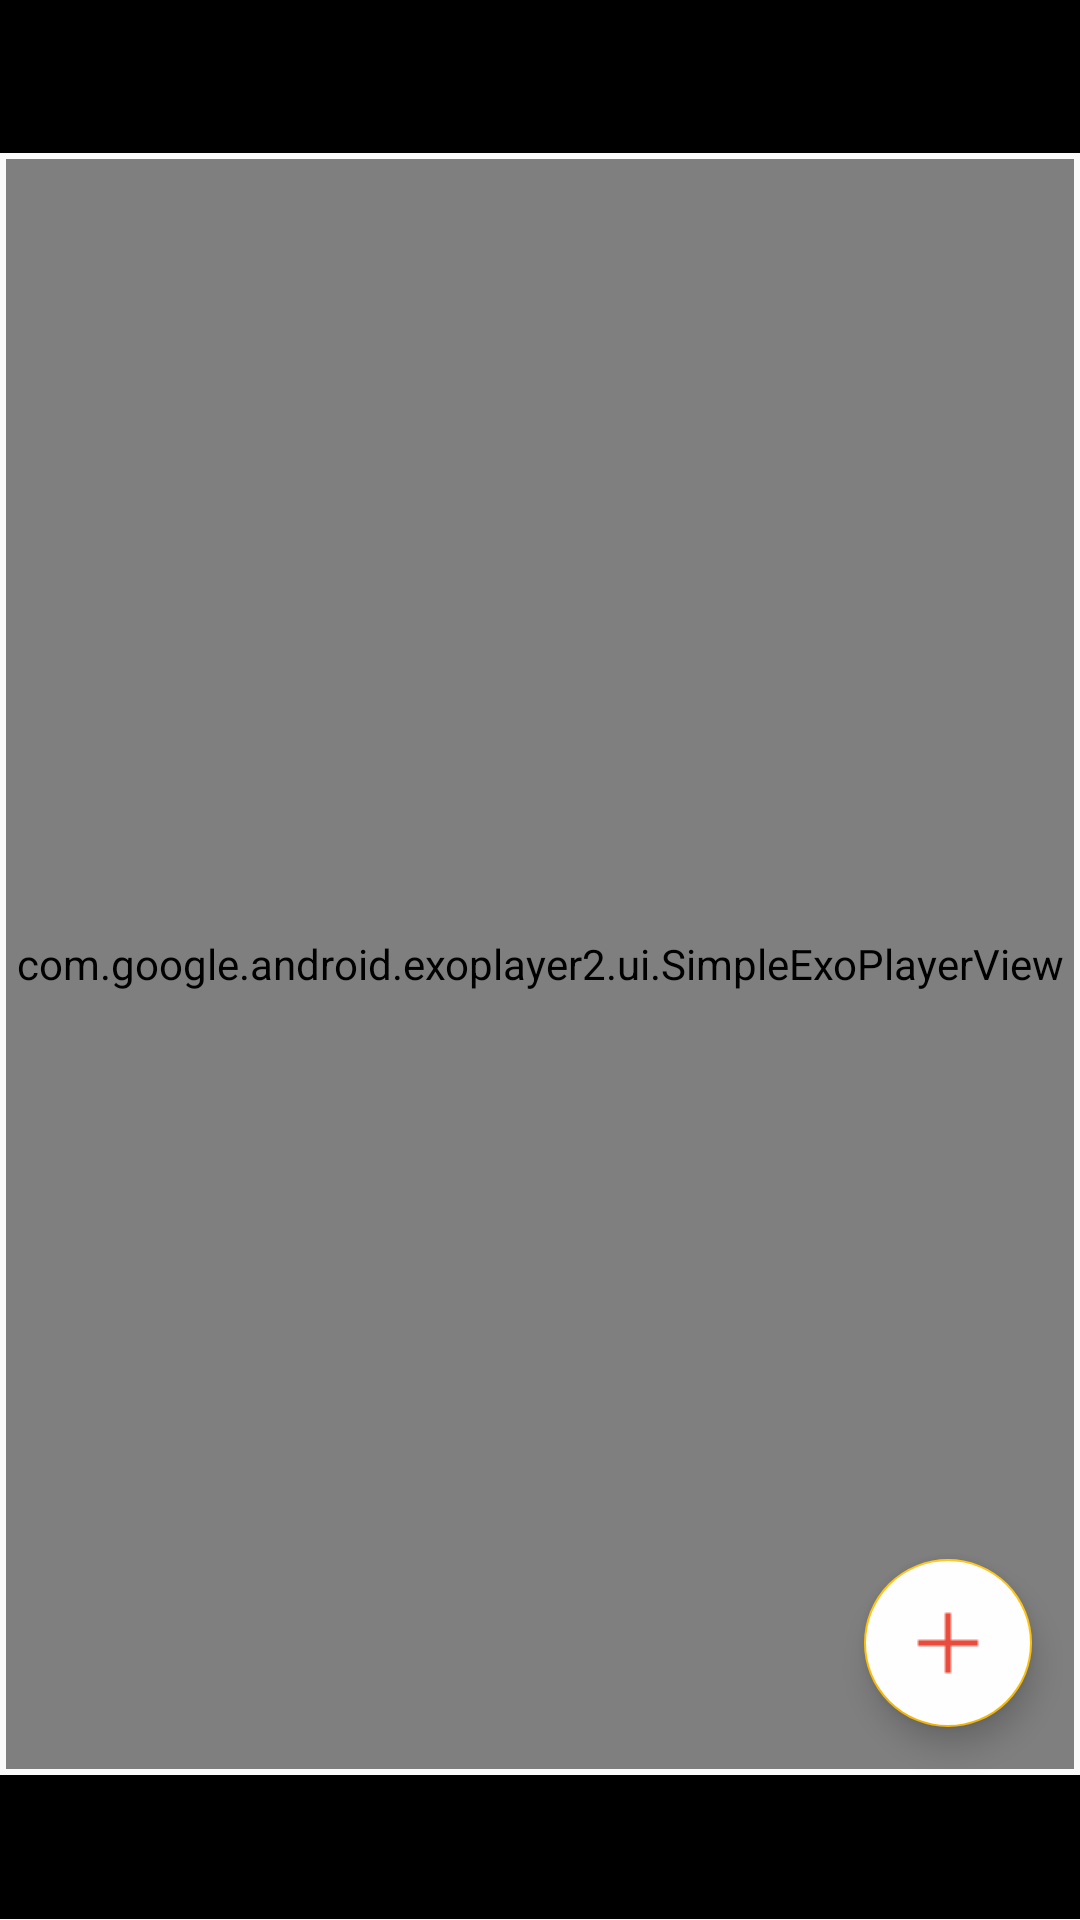

Where icons sit on this 1080w x 1920h app screen, as detection(x1, y1, x2, y2):
plus: detection(864, 1559, 1032, 1727)
